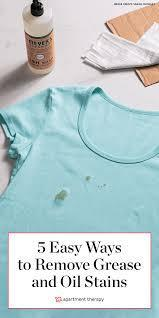mustard: (48, 182, 68, 202), (97, 180, 112, 199), (82, 171, 91, 183)
